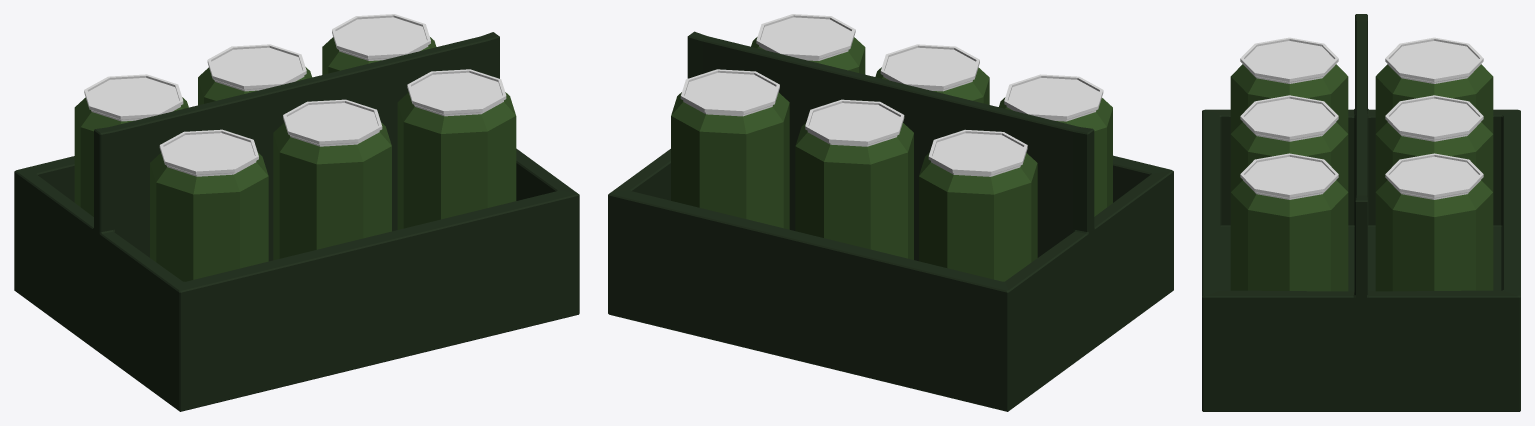
Rendered from SixPack.fbx.
3 views of the same model, side by side, from view 1: azimuth 30°, elevation 25°; view 2: azimuth 150°, elevation 25°; view 3: azimuth 270°, elevation 25° (orthographic). The views are drawn at different scales.
Visible parts, largest first — view 1: SixPack; view 2: SixPack; view 3: SixPack.
Boxes of the visible parts, x1,y1,x2,y2 form: SixPack: [14, 14, 579, 411]; SixPack: [608, 14, 1173, 411]; SixPack: [1202, 14, 1520, 411].
Size of the model in its own units: 44.5 by 23.41 by 31.98.
